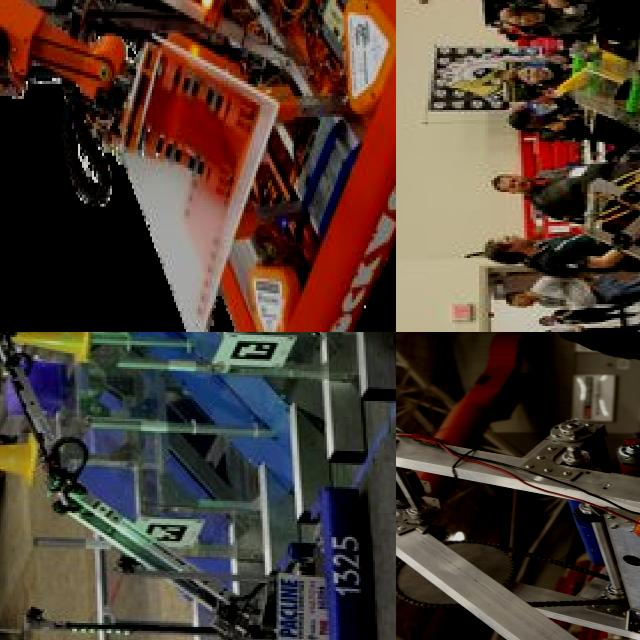FRC-Robots: (0, 0, 396, 332), (0, 462, 378, 640), (396, 431, 640, 640), (516, 144, 640, 332)
